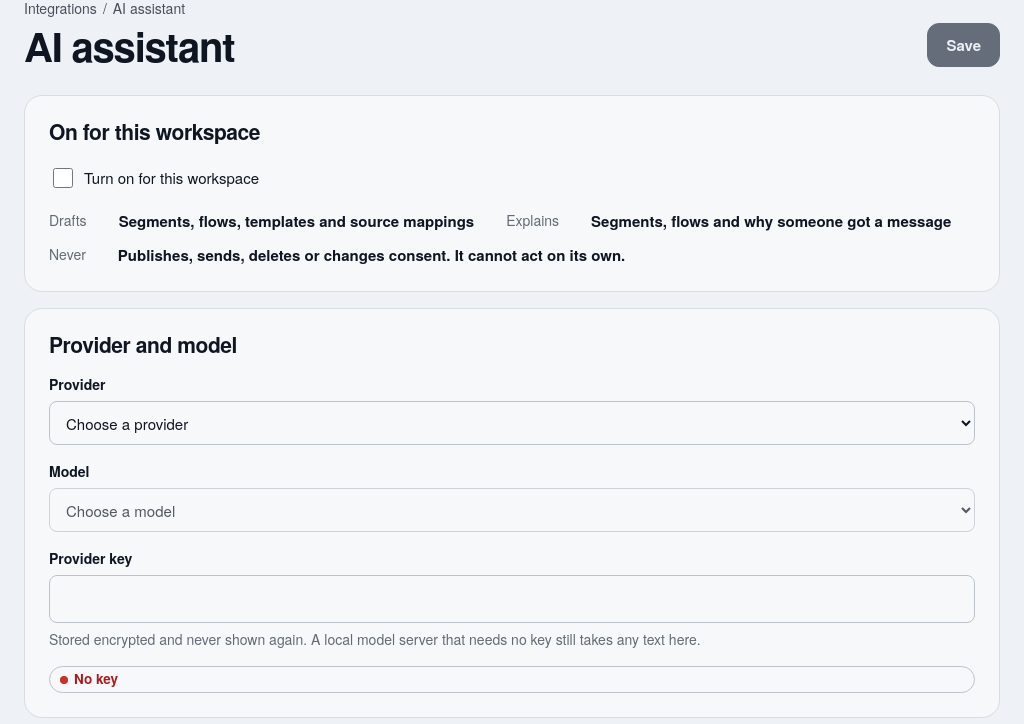
Test: AI assistant settings › lists each capability the probe found missing, with its reason
Click the switch labelled "Turn on for this workspace": point(63, 178) [53, 168, 73, 188]
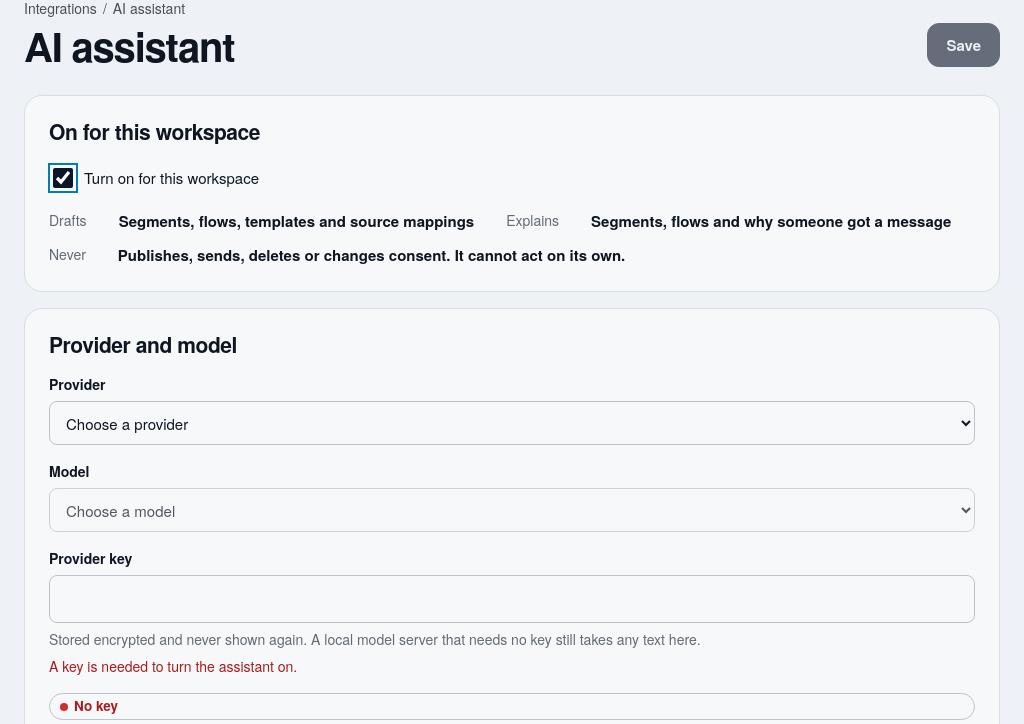
Select "openai" in the dropdown labelled "Provider": point(512, 423) [49, 401, 975, 445]
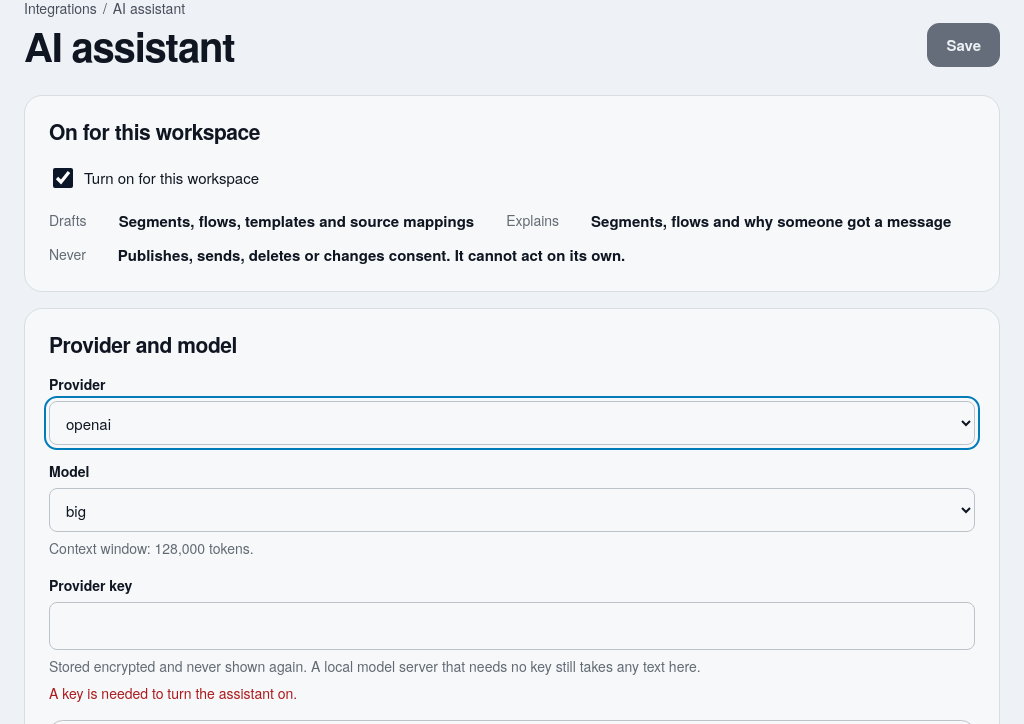
In the password field labelled "Provider key": point(512, 626) [49, 602, 975, 650], type "sk-x"
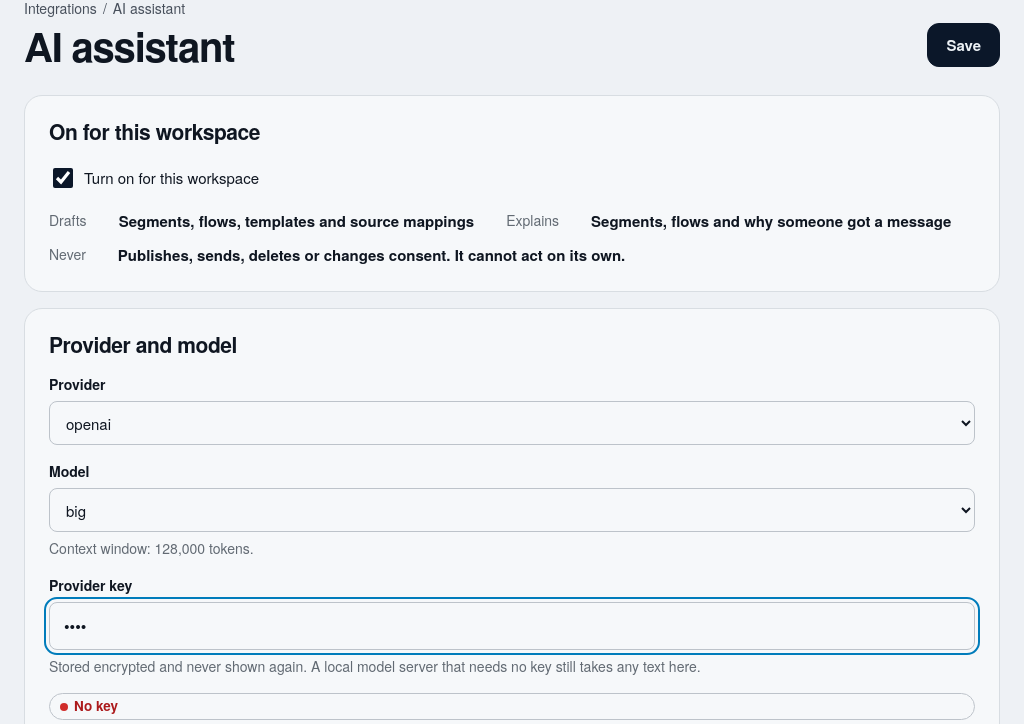
Click the button "Save": point(964, 45) [928, 23, 1000, 67]
(page scrolled)
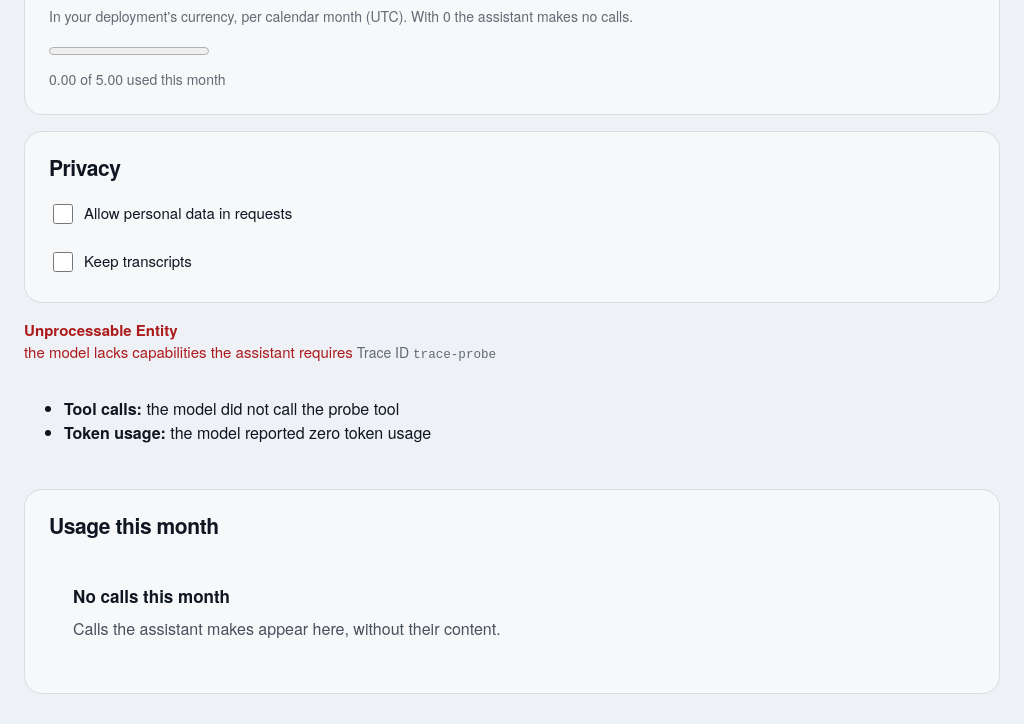
Expected: the number of list items is 2, [64, 397, 399, 420]; [64, 421, 431, 444]
Expected: the list item "Tool calls: the model did not call the probe tool" is shown, [64, 397, 399, 420]
Expected: the list item "Token usage: the model reported zero token usage" is shown, [64, 421, 431, 444]
